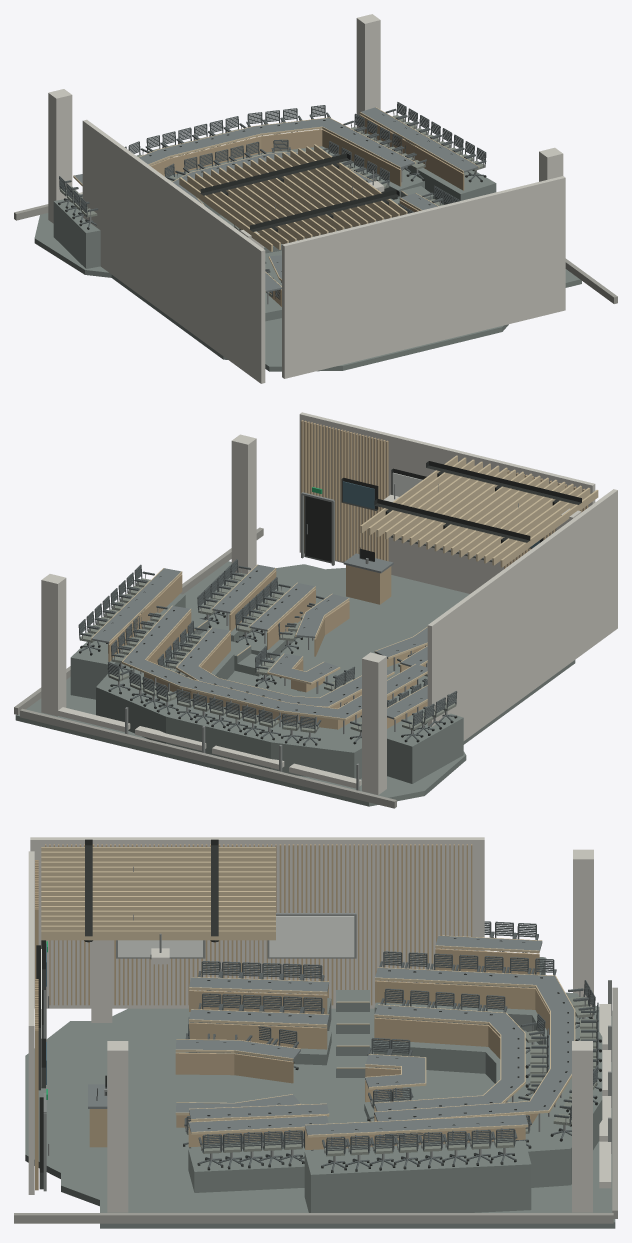
File: mar-104-interior-ef2db3ea7a36.glb
The picture shows the model from 3 angles, top to bottom: view 1: azimuth 30°, elevation 25°; view 2: azimuth 150°, elevation 25°; view 3: azimuth 270°, elevation 25°; orthographic projection. The views are drawn at different scales.
Visible parts, largest first — view 1: mar-104; view 2: mar-104; view 3: mar-104.
Part boxes in pixels (box(x1,y1,x2,y2)): mar-104: box(14, 14, 617, 383); mar-104: box(14, 412, 617, 808); mar-104: box(14, 837, 617, 1228).
Bounding box in the file's own units: 14.04 × 5.15 × 15.56.
